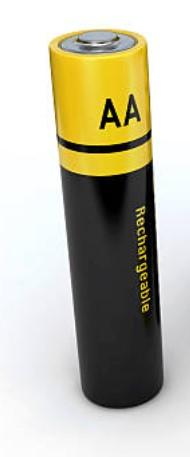Battery: (49, 29, 163, 408)
